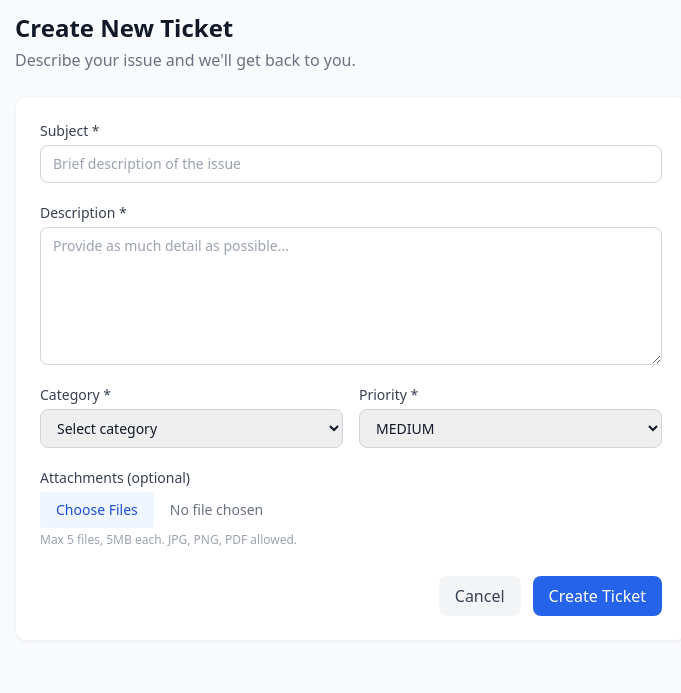
CreateTicketPage › validates required fields before making an API request
What coordinates should you click on to do the following:
click the button "Create Ticket"
I would click on:
 (597, 596)
Its box is [533,576,662,616].
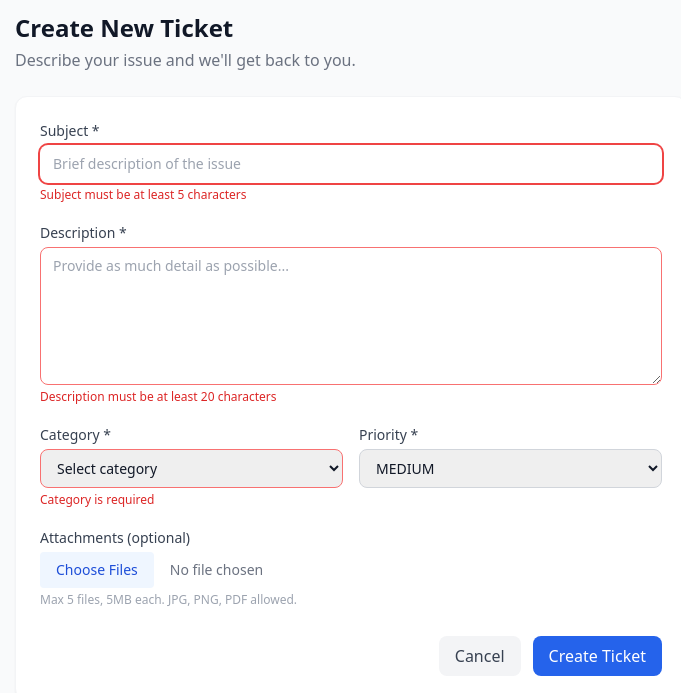
Expected: the text "Subject must be at least 5 characters" is shown, [40,186,246,203]
